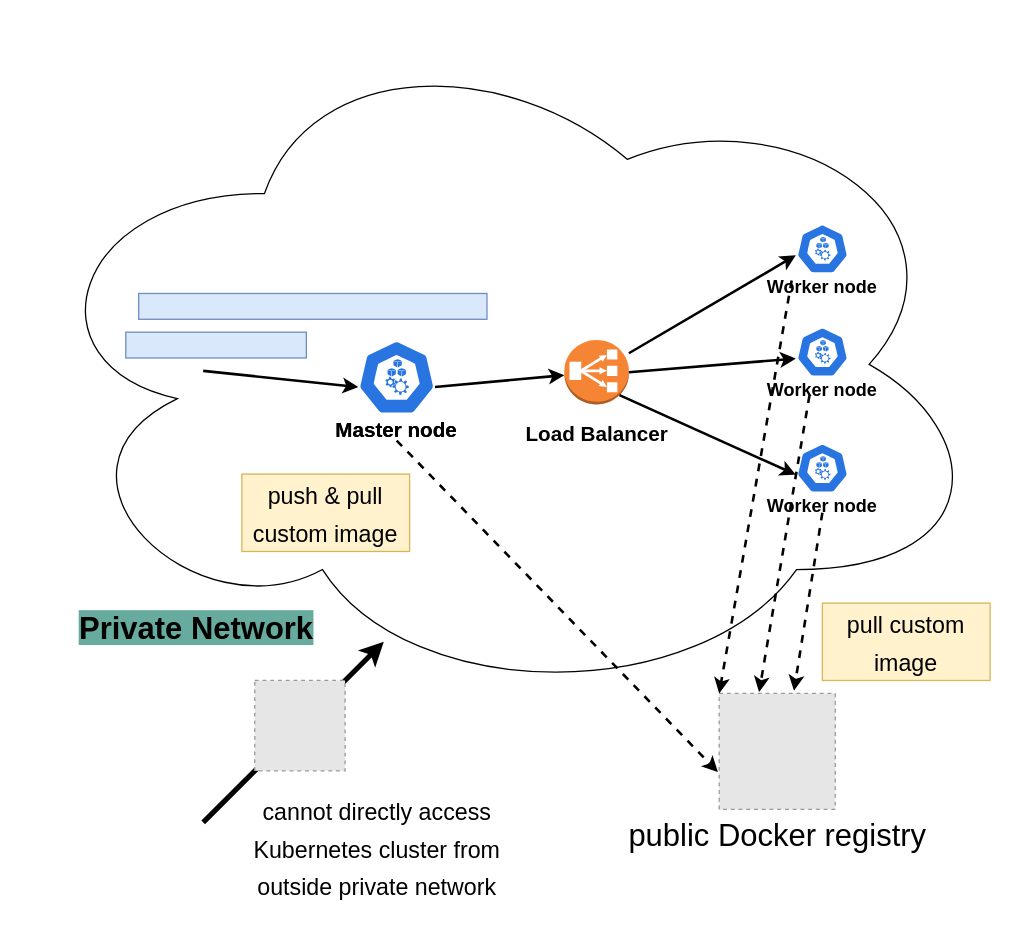
Image size: 1013x926. Some labels were removed from this diagram. Grey dashed boxes stand in for pictures. The shapes that lost their labels are listed below. From the top down, each one's centre as x and y in pixels, then its label:
the point at 312,305: via master node's private IP address
the point at 215,344: user request
